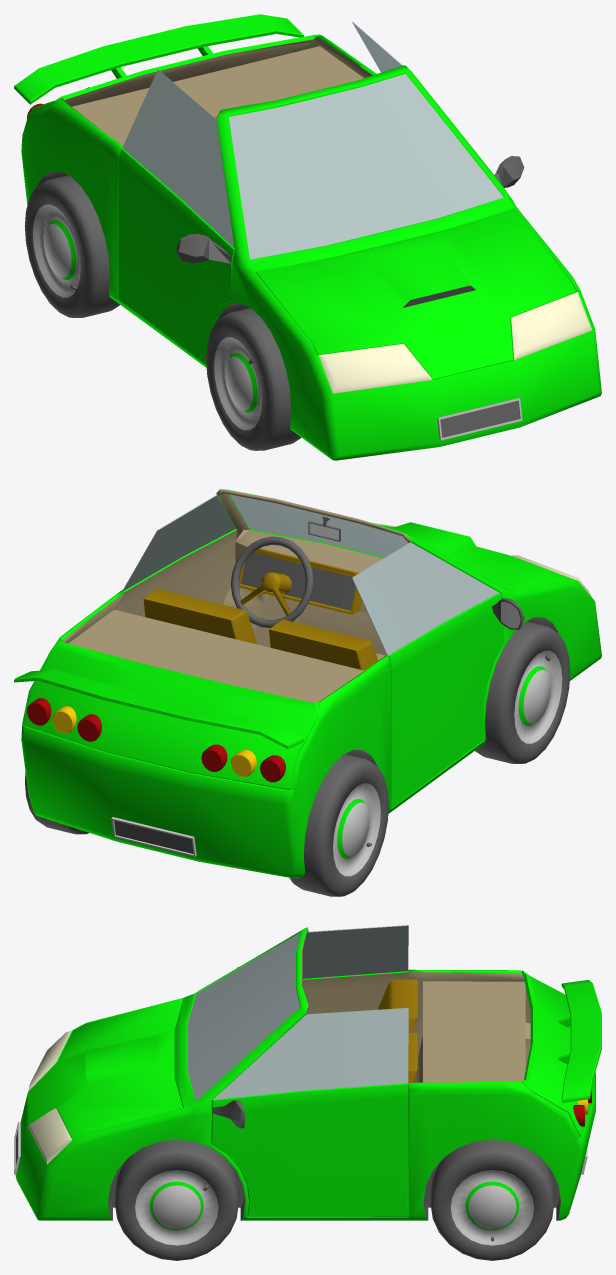
The model's file is Car.fbx.
3 renders of one model, top to bottom at view 1: azimuth 30°, elevation 25°; view 2: azimuth 150°, elevation 25°; view 3: azimuth 270°, elevation 25°, orthographic. The views are drawn at different scales.
Parts seen in each view (by area): view 1: carrosserie, elements, hood, door_front_R, glass_front_R, Tire_Front_R, Tire_Back_R, spoiler, Trunk, glass_front_L, door_front_L; view 2: carrosserie, Trunk, elements, door_front_R, Tire_Back_R, Tire_Front_R, glass_front_R, spoiler, door_front_L, hood, glass_front_L, Steering_wheel; view 3: carrosserie, door_front_L, elements, hood, Tire_Back_L, Tire_Front_L, glass_front_L, Trunk, glass_front_R, spoiler, door_front_R.
Part boxes in pixels (x1,y1,x2,y2): carrosserie: (21,35,601,460); elements: (214,74,592,440); hood: (255,209,576,379); door_front_R: (118,148,234,363); glass_front_R: (122,69,234,247); Tire_Front_R: (206,308,301,450); Tire_Back_R: (24,175,119,317); spoiler: (14,14,303,104); Trunk: (22,34,319,136); glass_front_L: (352,22,402,72); door_front_L: (494,156,524,187); carrosserie: (21,489,601,878); Trunk: (22,638,319,789); elements: (111,494,591,856); door_front_R: (388,592,524,808); Tire_Back_R: (289,754,388,896); Tire_Front_R: (475,621,570,763); glass_front_R: (352,542,499,655); spoiler: (14,669,303,749); door_front_L: (121,529,236,616); hood: (378,522,570,590); glass_front_L: (122,495,235,591); Steering_wheel: (231,536,313,628); carrosserie: (15,927,595,1220); door_front_L: (211,1083,408,1216); elements: (14,933,587,1174); hood: (28,998,183,1140); Tire_Back_L: (430,1139,554,1260); Tire_Front_L: (115,1139,238,1260); glass_front_L: (213,1008,408,1099); Trunk: (521,970,594,1136); glass_front_R: (303,925,408,978); spoiler: (558,980,601,1102); door_front_R: (237,967,408,1014).
Size of the model in its own units: 190 by 141 by 322.
